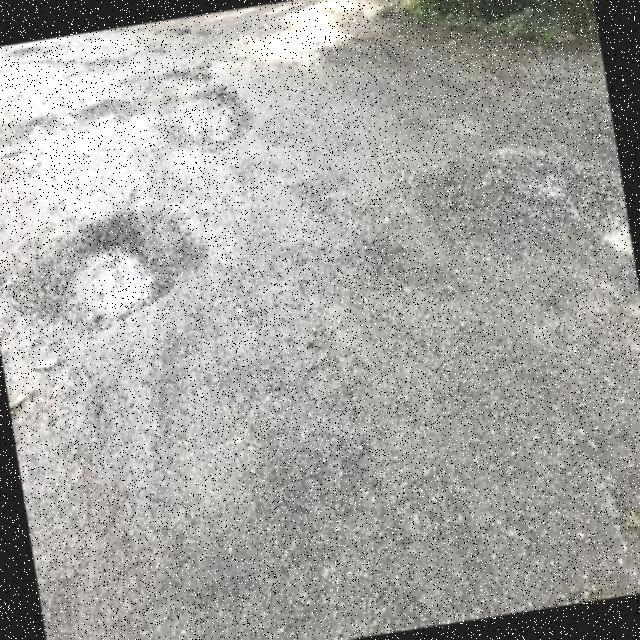Pothole: (11, 203, 180, 338)
